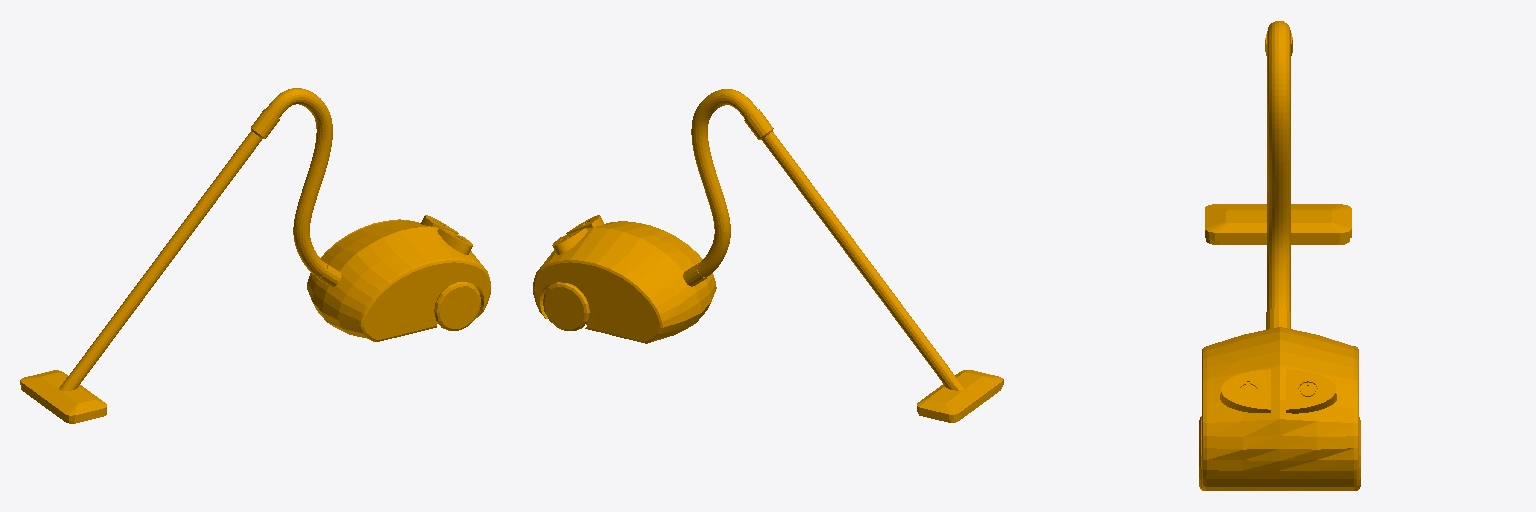
URDF robot description (none):
<robot name="none">
       <link name="none">
           <visual>
               <origin rpy="1.57 0 0" xyz="0 0 0" />
               <geometry>
                   <mesh filename="aspirateur.obj" />
               </geometry>
           </visual>
          <collision>
              <geometry>
                  <box size="1.000000 0.576600 0.229963" />
              </geometry>
          </collision>

          <inertial>
            <mass value="0.0" />
            <inertia ixx="0.0" ixy="0.0" ixz="0.0" iyy="0.0" iyz="0.0" izz="0.0" />
          </inertial>
      </link>
  </robot>

--- What the picture shows (computed from the rendered views, not written in the file) ---
Views: 3 orthographic renders of the robot side by side, from view 1: azimuth 30°, elevation 25°; view 2: azimuth 150°, elevation 25°; view 3: azimuth 270°, elevation 25°.
Model none with 1 links and 0 joints (none), rooted at none, posed all joints at 0.
Visible links, largest first — view 1: none; view 2: none; view 3: none.
Link boxes in pixels (x1,y1,x2,y2): none: (20, 88, 490, 423); none: (533, 89, 1003, 422); none: (1199, 21, 1360, 490).
Size in the robot's own frame: 1 by 0.23 by 0.5767 metres.
Meshes: 1 distinct files referenced, 1 mesh visuals loaded (1 OBJ).